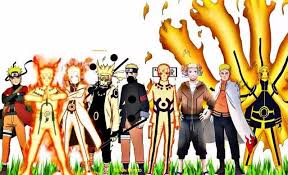Naruto: (5, 63, 26, 88), (95, 64, 115, 89), (254, 64, 276, 84), (64, 64, 83, 86), (124, 63, 142, 86), (37, 65, 56, 86), (216, 61, 235, 81), (184, 61, 202, 82), (157, 62, 174, 84)
